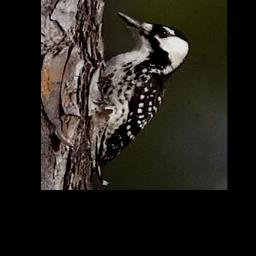Woodpecker: (87, 10, 194, 166)
